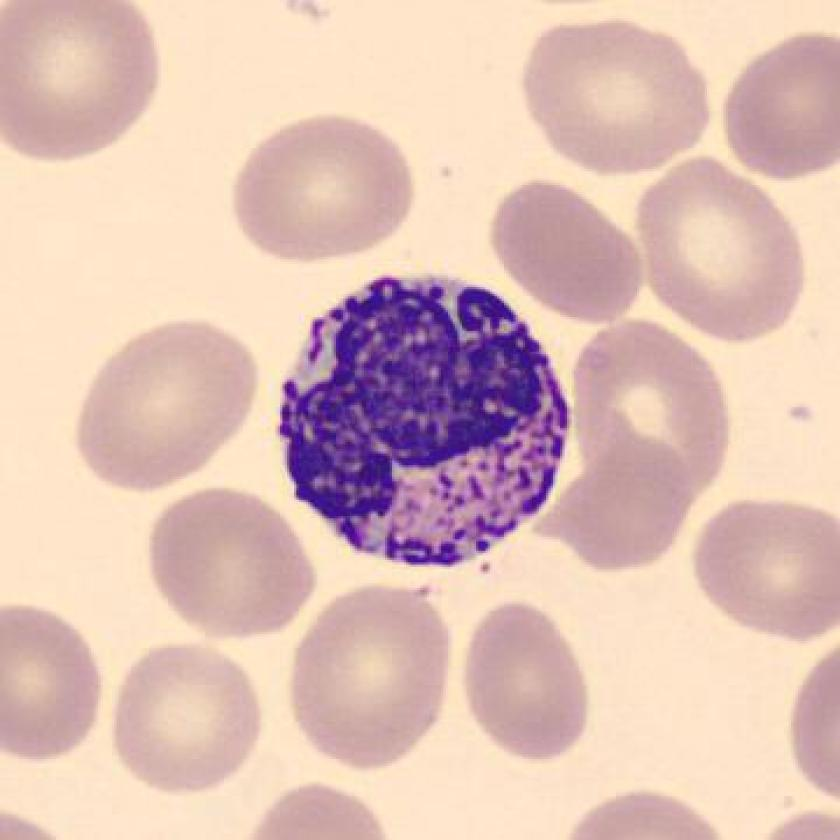basophil: (260, 262, 573, 582)
